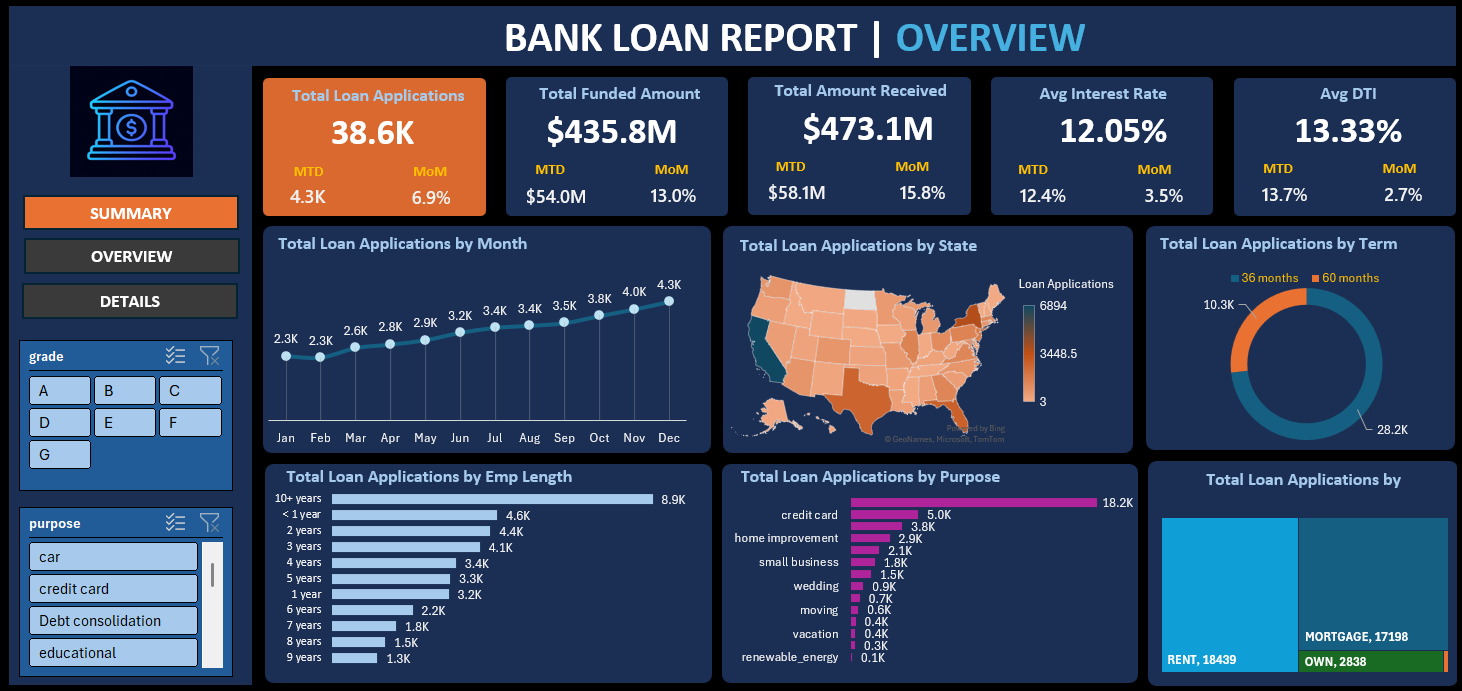

The dashboard page shown, as its layout file describes it:
{"tool":"powerbi","page":{"name":"Overview","canvas":[1280,720],"ordinal":1},"visuals":[{"type":"shape","box":[0,54.8,192,665.1],"z":0},{"type":"shape","box":[203.4,63.8,194.8,116.9],"z":0,"group":"g1"},{"type":"shape","box":[423.8,63.2,194.2,117],"z":1000,"group":"g2"},{"type":"shape","box":[639.2,63.6,194.8,116.9],"z":1000,"group":"g3"},{"type":"shape","box":[855.6,63.6,194.8,116.9],"z":1000,"group":"g4"},{"type":"shape","box":[1072,63.8,194.8,116.9],"z":1000,"group":"g5"},{"type":"card","fields":{"Values":["Bank_Loan_data.Total Loan Applications"]},"box":[203.4,82.6,194.8,53.4],"z":1000,"group":"g1"},{"type":"shape","box":[203.9,193,405,235],"z":1000},{"type":"shape","box":[0,0,1280,55],"z":2000},{"type":"textbox","box":[203.4,63.8,194.8,33.2],"z":2000,"group":"g1"},{"type":"textbox","box":[411.2,4.3,458.8,50.5],"z":3000},{"type":"card","fields":{"Values":["Bank_Loan_data.Total Funded Amount"]},"box":[419.2,77.6,194.8,53.4],"z":3000,"group":"g2"},{"type":"card","fields":{"Values":["Bank_Loan_data.Total Amount Received"]},"box":[639.2,82.4,194.8,53.4],"z":3000,"group":"g3"},{"type":"card","fields":{"Values":["Bank_Loan_data.Avg Interest Rate"]},"box":[855.6,82.4,194.8,53.4],"z":3000,"group":"g4"},{"type":"card","fields":{"Values":["Bank_Loan_data.Avg DTI"]},"box":[1072,82.6,194.8,53.4],"z":3000,"group":"g5"},{"type":"card","title":"MTD","fields":{"Values":["Date Table.MTD Loan Applications"]},"box":[203.4,131.6,83.7,49.1],"z":3000,"group":"g1"},{"type":"group","id":"g1","title":"Group 1","box":[203.4,63.8,194.8,116.9],"z":4000},{"type":"card","title":"MOM","fields":{"Values":["Date Table.MOM Loan Applications"]},"box":[301.5,131.6,83.7,49.1],"z":4000,"group":"g1"},{"type":"group","id":"g2","title":"Group 2","box":[419.2,58.8,199.1,121.9],"z":5000},{"type":"textbox","box":[419.2,58.8,194.8,33.2],"z":5000,"group":"g2"},{"type":"textbox","box":[639.2,63.6,194.8,33.2],"z":5000,"group":"g3"},{"type":"textbox","box":[855.6,63.6,194.8,33.2],"z":5000,"group":"g4"},{"type":"textbox","box":[1072,63.8,194.8,33.2],"z":5000,"group":"g5"},{"type":"group","id":"g3","title":"Group 2","box":[639.2,63.6,195.4,117],"z":6000},{"type":"card","title":"MTD","fields":{"Values":["Date Table.MTD Funded Amount"]},"box":[419.2,126.6,83.7,49.1],"z":6000,"group":"g2"},{"type":"card","title":"MTD","fields":{"Values":["Date Table.MTD Total Amount Received"]},"box":[639.2,131.4,83.7,49.1],"z":6000,"group":"g3"},{"type":"card","title":"MTD","fields":{"Values":["Date Table.MTD Avg Interest Rate"]},"box":[855.6,131.4,83.7,49.1],"z":6000,"group":"g4"},{"type":"card","title":"MTD","fields":{"Values":["Date Table.MTD Avg DTI"]},"box":[1072,131.6,83.7,49.1],"z":6000,"group":"g5"},{"type":"group","id":"g4","title":"Group 2","box":[855.6,63.6,195.4,117],"z":7000},{"type":"card","title":"MOM","fields":{"Values":["Date Table.MOM Funded Amount"]},"box":[517.3,126.6,83.7,49.1],"z":7000,"group":"g2"},{"type":"card","title":"MOM","fields":{"Values":["Date Table.MOM Total Amount Received"]},"box":[737.3,131.4,83.7,49.1],"z":7000,"group":"g3"},{"type":"card","title":"MOM","fields":{"Values":["Date Table.MOM Avg Interest Rate"]},"box":[953.7,131.4,83.7,49.1],"z":7000,"group":"g4"},{"type":"card","title":"MOM","fields":{"Values":["Date Table.MOM Avg DTI"]},"box":[1170.1,131.6,83.7,49.1],"z":7000,"group":"g5"},{"type":"group","id":"g5","title":"Group 2","box":[1072,63.8,194.8,116.9],"z":8000},{"type":"textbox","box":[20.2,545.4,76.5,30.3],"z":9000},{"type":"slicer","fields":{"Values":["Bank_Loan_data.grade"]},"box":[10.1,575.7,181.8,43.3],"z":10000},{"type":"textbox","box":[20.2,626.2,76.5,30.3],"z":11000},{"type":"slicer","fields":{"Values":["Bank_Loan_data.address_state"]},"box":[10.1,656.5,181.8,43.3],"z":12000},{"type":"textbox","box":[20.2,376.6,141.4,30.3],"z":13000},{"type":"textbox","box":[20.2,461.7,141.4,30.3],"z":14000},{"type":"areaChart","fields":{"Y":["Bank_Loan_data.Total Loan Applications"],"Category":["Date Table.Month"]},"box":[229.4,193.3,372.2,235.2],"z":15000},{"type":"slicer","fields":{"Values":["Select Measure.Select Measure"]},"box":[10.1,406.9,180.3,43.3],"z":16000},{"type":"shape","box":[626,193,352.3,235.3],"z":17000},{"type":"shapeMap","title":"Total Loan Applications by state","fields":{"Value":["Bank_Loan_data.Total Loan Applications"],"Category":["Bank_Loan_data.address_state"]},"box":[640.6,193,337.8,235.3],"z":18000},{"type":"shape","box":[995.3,193,271.4,235.3],"z":19000},{"type":"donutChart","title":"Total Funded Amount by Term","fields":{"Y":["Bank_Loan_data.Total Loan Applications"],"Category":["Bank_Loan_data.term"]},"box":[1011.4,193.3,242.4,235.2],"z":20000},{"type":"shape","box":[203.4,440,405.4,269.8],"z":21000},{"type":"barChart","title":"Total Loan Applications by Employee Length","fields":{"Y":["Bank_Loan_data.Total Loan Applications"],"Category":["Bank_Loan_data.emp_length"]},"box":[217.9,455.9,383.8,253.9],"z":22000},{"type":"shape","box":[626.2,440,352,269.8],"z":23000},{"type":"barChart","title":"Total Loan Applications by Purpose","fields":{"Y":["Bank_Loan_data.Total Loan Applications"],"Category":["Bank_Loan_data.purpose"]},"box":[643.5,450.1,269.8,269.8],"z":24000},{"type":"shape","box":[995.5,440,271.2,269.8],"z":25000},{"type":"treemap","title":"Total Loan Applications by Home Ownership","fields":{"Values":["Bank_Loan_data.Total Loan Applications"],"Group":["Bank_Loan_data.home_ownership"]},"box":[1011.4,440,255.4,269.8],"z":26000},{"type":"slicer","fields":{"Values":["Bank_Loan_data.Good vs Bad Loan"]},"box":[10.1,492,181.8,43.3],"z":27000},{"type":"pageNavigator","box":[10.1,176,181.8,163],"z":28000},{"type":"textbox","box":[10.1,145.7,141.4,30.3],"z":29000},{"type":"image","box":[59.2,44.7,118.3,118.3],"z":29001}]}

Visuals, with their boxes on the page's 1280x720 design canvas (x1, y1, x2, y2). These are canvas units, not pixel positions in the 1462x691 screenshot, which may show the page scaled, cropped or inside an application window:
shape: [0,55,192,720]
shape: [203,64,398,181]
shape: [424,63,618,180]
shape: [639,64,834,180]
shape: [856,64,1050,180]
shape: [1072,64,1267,181]
card - Bank_Loan_data.Total Loan Applications: [203,83,398,136]
shape: [204,193,609,428]
shape: [0,0,1280,55]
textbox: [203,64,398,97]
textbox: [411,4,870,55]
card - Bank_Loan_data.Total Funded Amount: [419,78,614,131]
card - Bank_Loan_data.Total Amount Received: [639,82,834,136]
card - Bank_Loan_data.Avg Interest Rate: [856,82,1050,136]
card - Bank_Loan_data.Avg DTI: [1072,83,1267,136]
"MTD" card: [203,132,287,181]
"Group 1" group: [203,64,398,181]
"MOM" card: [302,132,385,181]
"Group 2" group: [419,59,618,181]
textbox: [419,59,614,92]
textbox: [639,64,834,97]
textbox: [856,64,1050,97]
textbox: [1072,64,1267,97]
"Group 2" group: [639,64,835,181]
"MTD" card: [419,127,503,176]
"MTD" card: [639,131,723,180]
"MTD" card: [856,131,939,180]
"MTD" card: [1072,132,1156,181]
"Group 2" group: [856,64,1051,181]
"MOM" card: [517,127,601,176]
"MOM" card: [737,131,821,180]
"MOM" card: [954,131,1037,180]
"MOM" card: [1170,132,1254,181]
"Group 2" group: [1072,64,1267,181]
textbox: [20,545,97,576]
slicer - Bank_Loan_data.grade: [10,576,192,619]
textbox: [20,626,97,656]
slicer - Bank_Loan_data.address_state: [10,656,192,700]
textbox: [20,377,162,407]
textbox: [20,462,162,492]
areaChart - Bank_Loan_data.Total Loan Applications x Date Table.Month: [229,193,602,428]
slicer - Select Measure.Select Measure: [10,407,190,450]
shape: [626,193,978,428]
"Total Loan Applications by state" shapeMap: [641,193,978,428]
shape: [995,193,1267,428]
"Total Funded Amount by Term" donutChart: [1011,193,1254,428]
shape: [203,440,609,710]
"Total Loan Applications by Employee Length" barChart: [218,456,602,710]
shape: [626,440,978,710]
"Total Loan Applications by Purpose" barChart: [644,450,913,720]
shape: [996,440,1267,710]
"Total Loan Applications by Home Ownership" treemap: [1011,440,1267,710]
slicer - Bank_Loan_data.Good vs Bad Loan: [10,492,192,535]
pageNavigator: [10,176,192,339]
textbox: [10,146,152,176]
image: [59,45,178,163]
